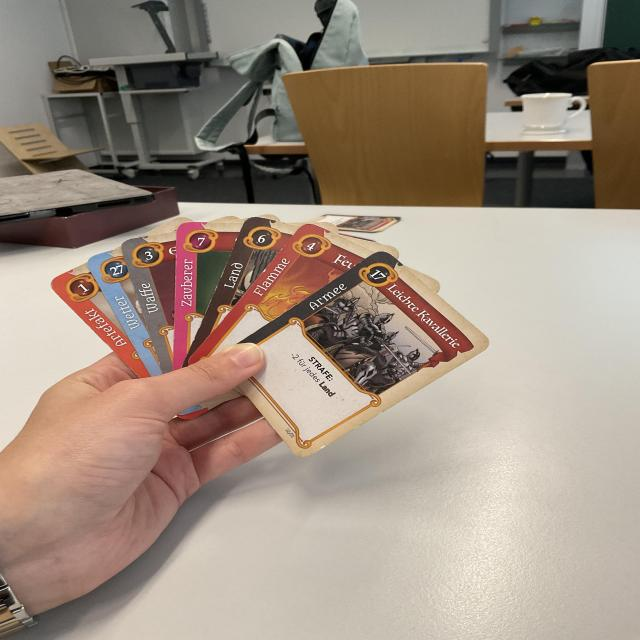Collector: (172, 222, 244, 369)
Elven Longbow: (121, 230, 179, 376)
Fire Elemental: (187, 222, 377, 367)
Light Cavalry: (236, 249, 496, 460)
Rune Of Protection: (46, 263, 153, 378)
Smoke: (84, 243, 162, 375)
Underground Caverns: (183, 215, 300, 360)
